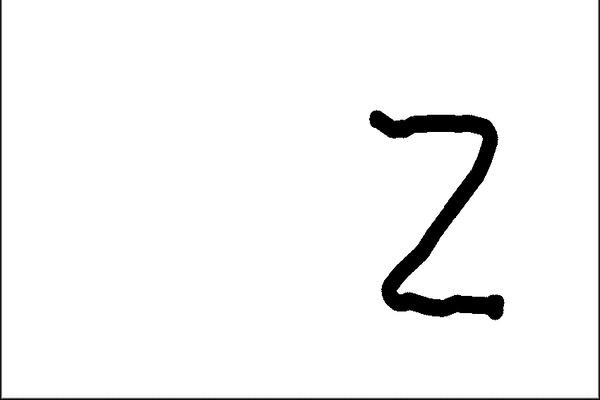Z: (358, 96, 525, 323)
